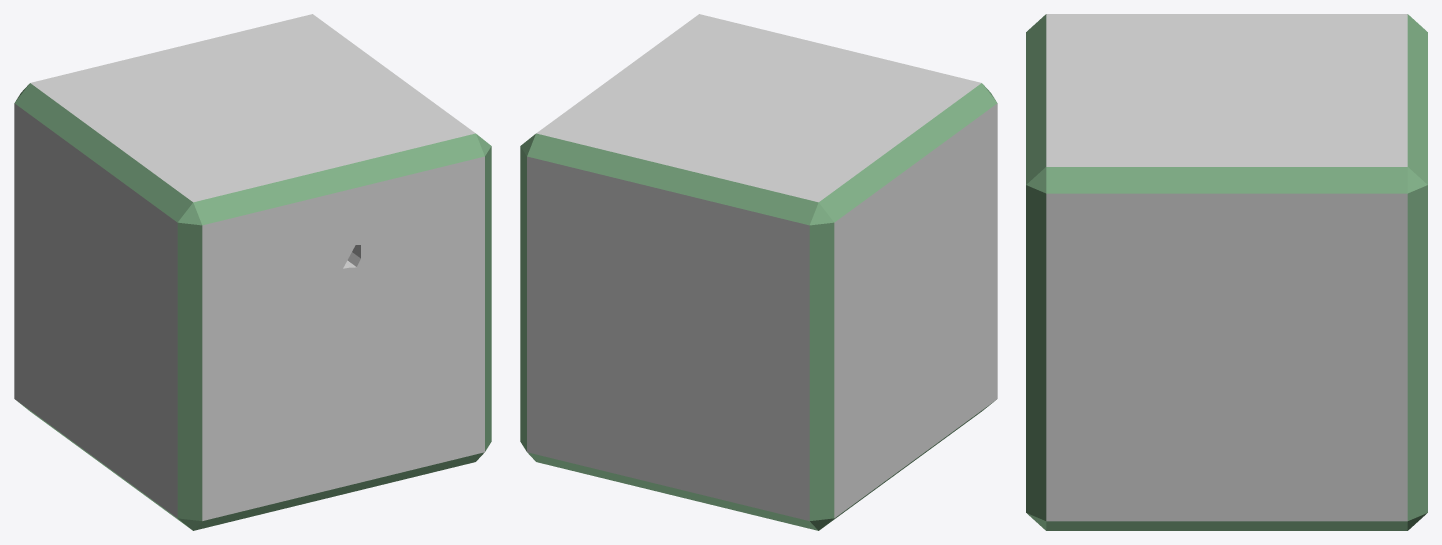
File: JetBrains_Mono_Spots.fbx
The picture shows the model from 3 angles, left to right: view 1: azimuth 30°, elevation 25°; view 2: azimuth 150°, elevation 25°; view 3: azimuth 270°, elevation 25°; orthographic projection. The views are drawn at different scales.
Visible parts, largest first — view 1: Base_Cube1, Base_Cube2, Base_Cube3, Base_Cube6, Base_Cube4, Base_Cube7, Base_Cube5, Base_Cube8; view 2: Base_Cube1; view 3: Base_Cube1.
Part boxes in pixels (x1,y1,x2,y2): Base_Cube1: (14,14,491,530); Base_Cube2: (202,156,484,520); Base_Cube3: (202,157,484,520); Base_Cube6: (202,159,484,517); Base_Cube4: (202,158,484,520); Base_Cube7: (202,160,484,518); Base_Cube5: (202,157,484,518); Base_Cube8: (202,161,484,516); Base_Cube1: (520,14,997,530); Base_Cube1: (1026,14,1427,530).
Bounding box in the file's own units: 0.2 × 0.2 × 0.2.
